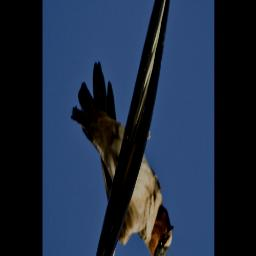Swallow: (70, 60, 175, 256)
